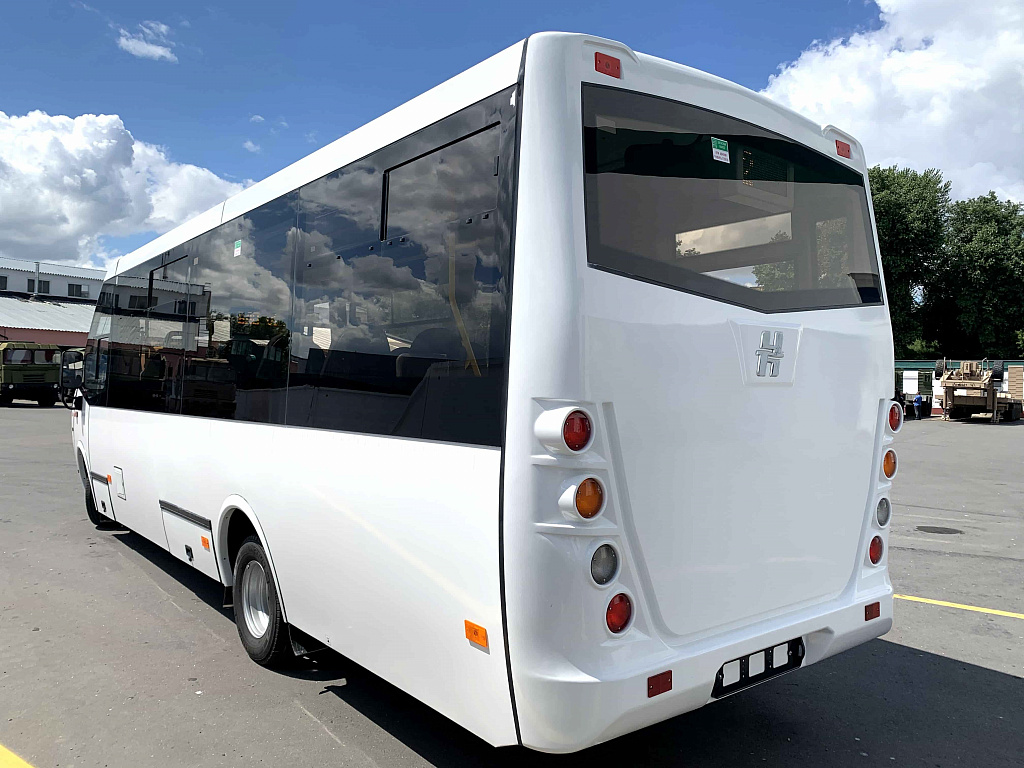bus: (68, 31, 903, 758)
